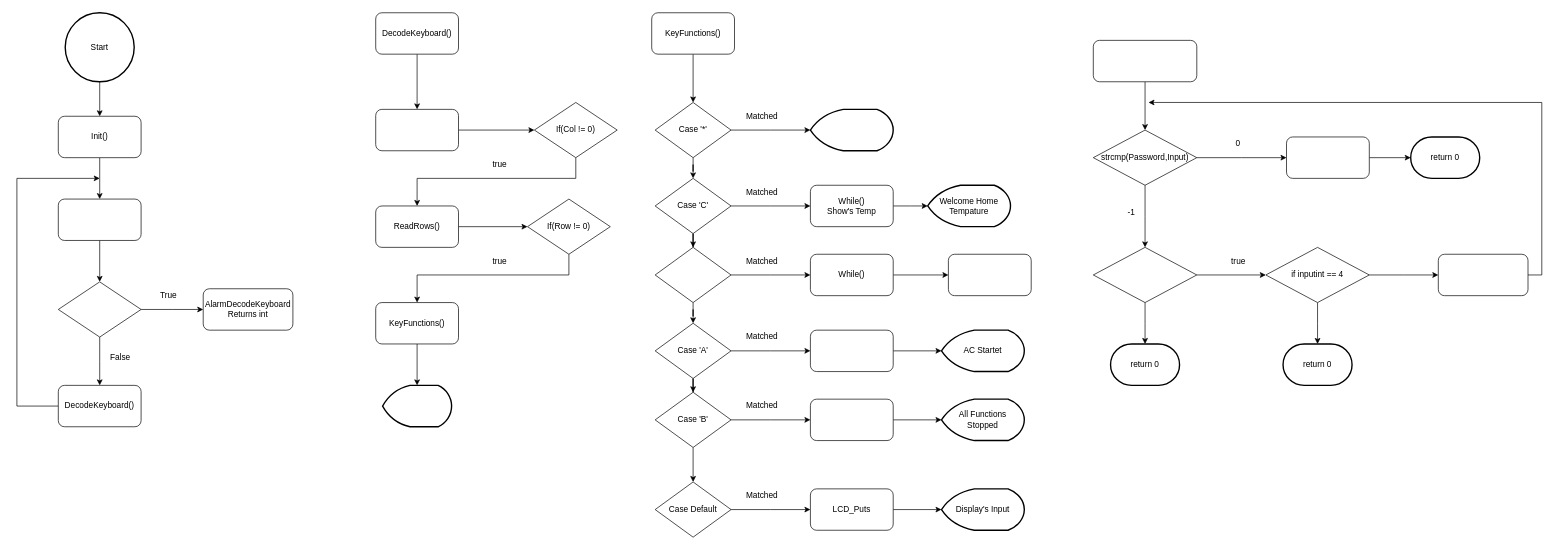
Some shapes in this 1559 by 549 pixel diagram are drawn without their labels. Here are the shapes that lost their labels. From the top down, the box of each, then its label:
(1093, 40, 1197, 82): AlarmDecodeKeyboard()
(375, 109, 459, 151): ColumnScan()
(809, 108, 894, 151): Welcome Home
(1286, 136, 1369, 178): DisableAlarm
(58, 198, 141, 240): While(1)
(654, 247, 731, 303): Case 'D'
(948, 254, 1031, 296): StepKeyBoard()
(1093, 247, 1197, 303): row != 0 && col != 0
(1438, 254, 1528, 296): strcpy(userinput,result)
(58, 281, 141, 337): If(Alarm == 1)
(810, 329, 893, 372): TurnOnAC
(382, 384, 452, 427): LCD_Display()
(810, 398, 893, 441): Shutdown Functions
